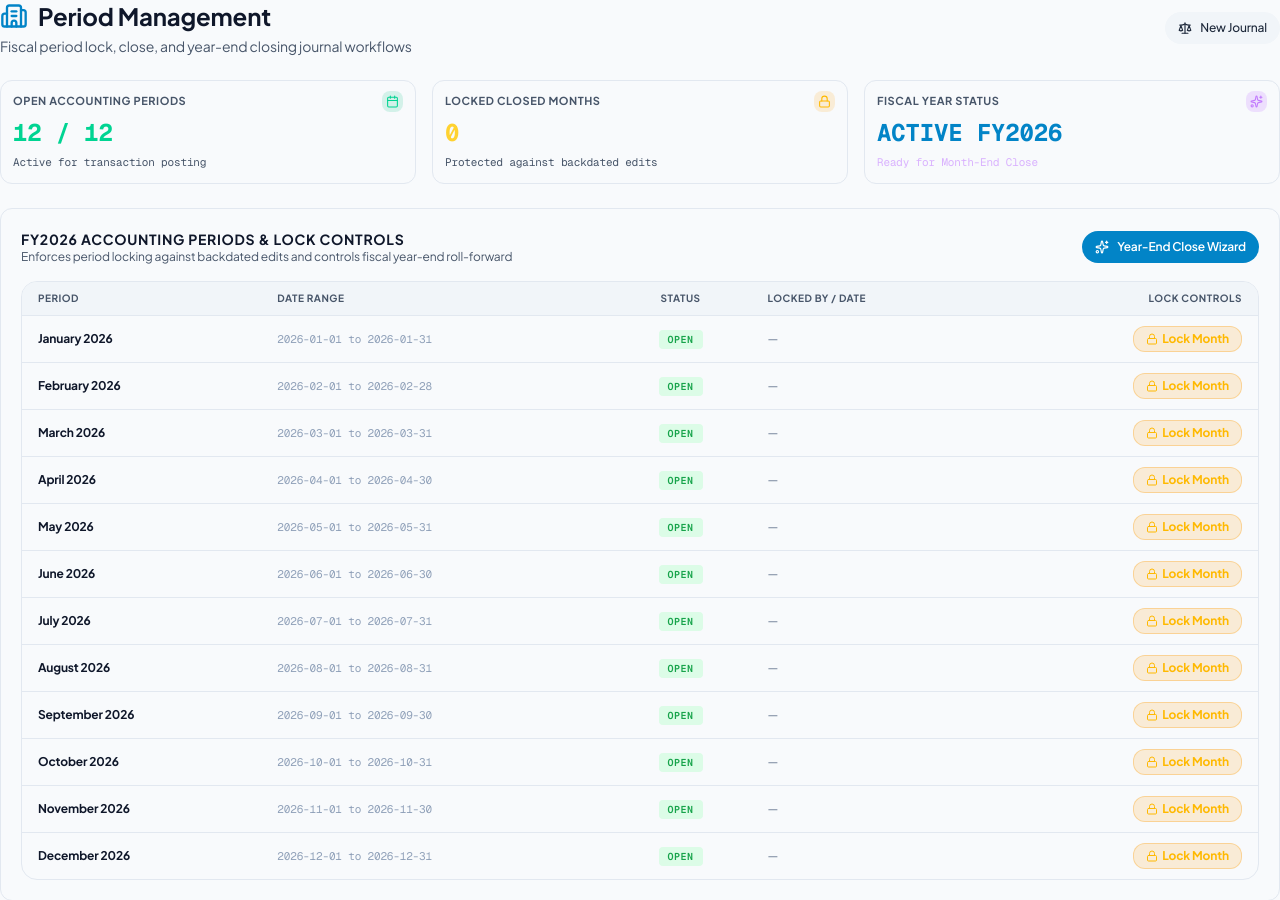
it: SERP-295: Accounting Period Lock & Year-End Close UI › opens Year-End Close Wizard and displays roll-forward preview
Click the button with test id "open-year-end-modal-btn". click: (1171, 247)
box: top-left (1082, 231), bottom-right (1259, 263)
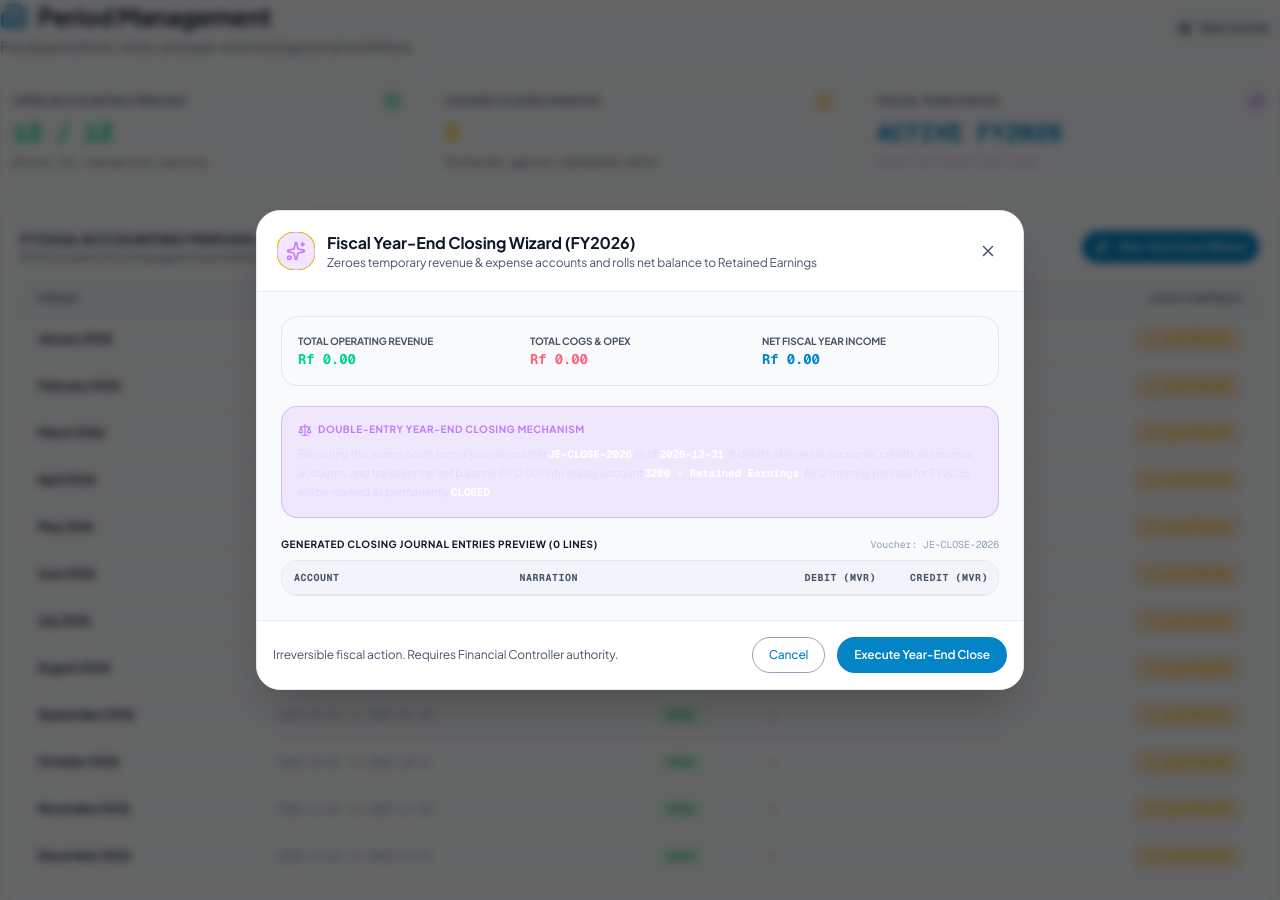
Check: the element with test id "year-end-closing-modal" is shown
Check: the heading "Fiscal Year-End Closing Wizard (FY2026)" is shown, box top-left (327, 232), bottom-right (636, 253)
Check: the text "Double-Entry Year-End Closing Mechanism" is shown, box top-left (298, 423), bottom-right (585, 437)
